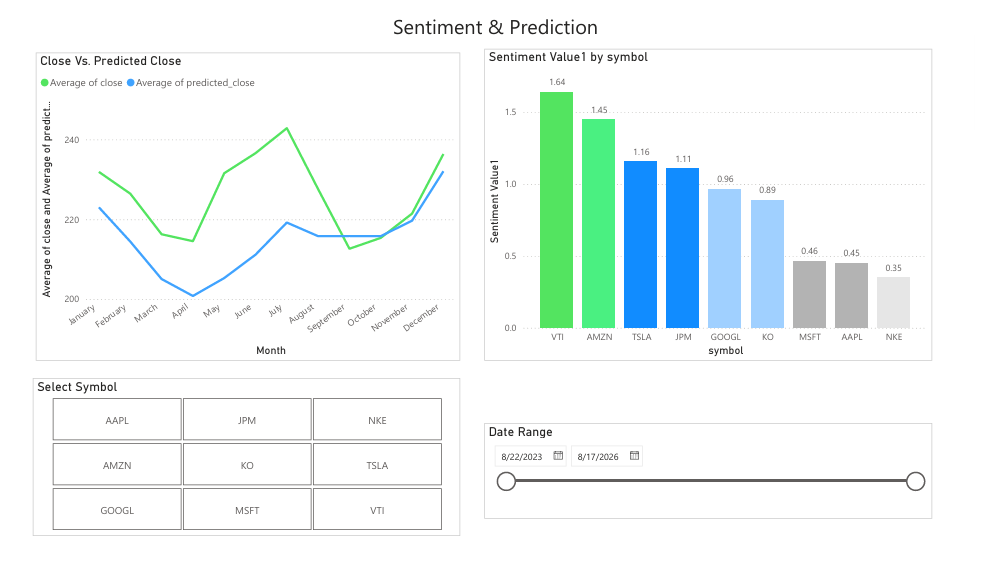

The page's visual inventory and layout, read from the dashboard file:
{"tool":"powerbi","page":{"name":"Page 3","canvas":[1280,720],"ordinal":2},"visuals":[{"type":"lineChart","title":"Close Vs. Predicted Close","fields":{"Y":["Avg(public fct_stock_analysis_with_sentiment.close)","Avg(public fct_stock_analysis_with_sentiment.predicted_close)"],"Category":["public fct_stock_analysis_with_sentiment.date.Variation.Date Hierarchy.Month"]},"box":[25.5,57.9,567.1,412],"z":0},{"type":"columnChart","fields":{"Category":["public fct_stock_analysis_with_sentiment.symbol"],"Y":["public fct_stock_analysis_with_sentiment.Sentiment Value1"]},"box":[625,53.2,599.5,416.6],"z":1000},{"type":"slicer","title":"Select Symbol","fields":{"Values":["public fct_stock_analysis_with_sentiment.symbol"]},"box":[20.8,493,571.7,210.6],"z":2000},{"type":"slicer","title":"Date Range","fields":{"Values":["public fct_stock_analysis_with_sentiment.date"]},"box":[625,553.2,599.5,127.3],"z":3000},{"type":"textbox","box":[0,0,1280,53.2],"z":3001}]}

Visuals, with their boxes in screenshot pixels (x1, y1, x2, y2), scaled from the page's 1280x720 canvas onto the 985x565 screenshot:
"Close Vs. Predicted Close" lineChart: BBox(20, 45, 456, 369)
columnChart - public fct_stock_analysis_with_sentiment.symbol x public fct_stock_analysis_with_sentiment.Sentiment Value1: BBox(481, 42, 942, 369)
"Select Symbol" slicer: BBox(16, 387, 456, 552)
"Date Range" slicer: BBox(481, 434, 942, 534)
textbox: BBox(0, 0, 984, 42)
